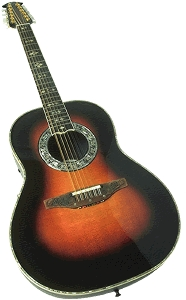guitar: (1, 1, 180, 297)
